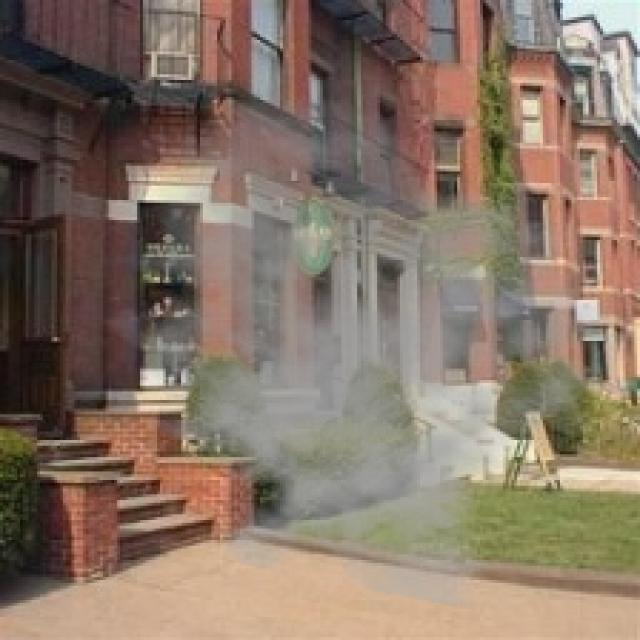Smoke: (80, 91, 620, 612)
